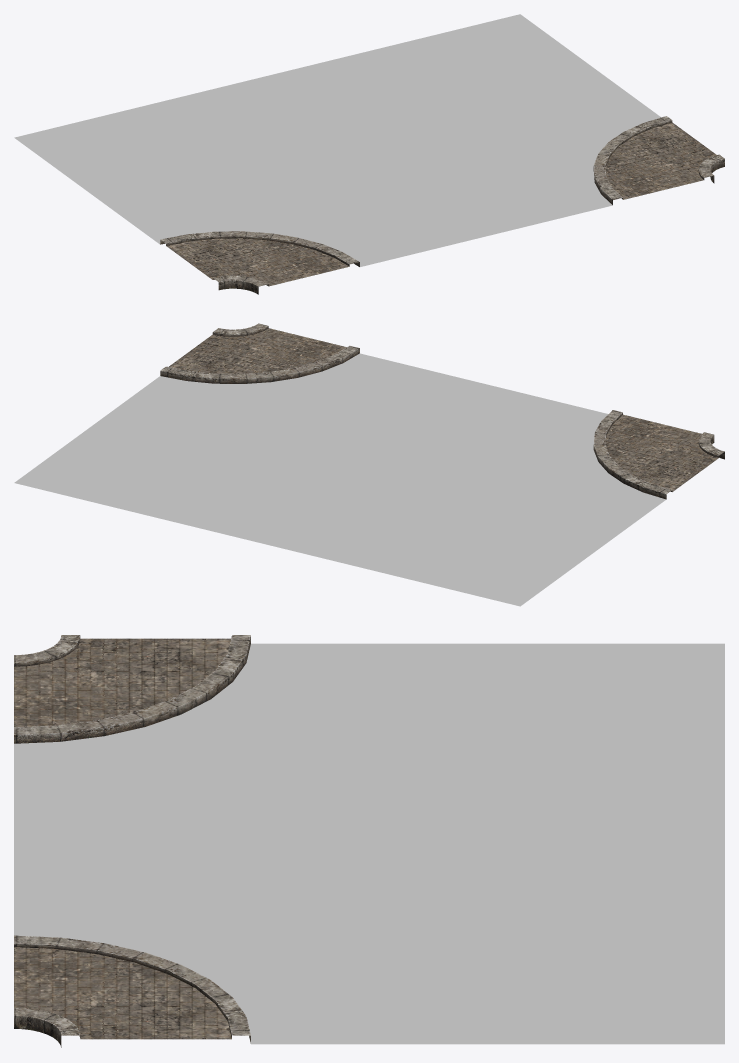
The model's file is Road6C.fbx.
3 views of the same model, one above another, from view 1: azimuth 30°, elevation 25°; view 2: azimuth 150°, elevation 25°; view 3: azimuth 270°, elevation 25° (orthographic). The views are drawn at different scales.
Visible parts, largest first — view 1: polySurface73; view 2: polySurface73; view 3: polySurface73.
Boxes of the visible parts, left/top/right/bottom form: polySurface73: left=14, top=14, right=724, bottom=294; polySurface73: left=14, top=323, right=724, bottom=606; polySurface73: left=14, top=635, right=724, bottom=1047.
Size of the model in its own units: 10 by 0.1527 by 7.5.
